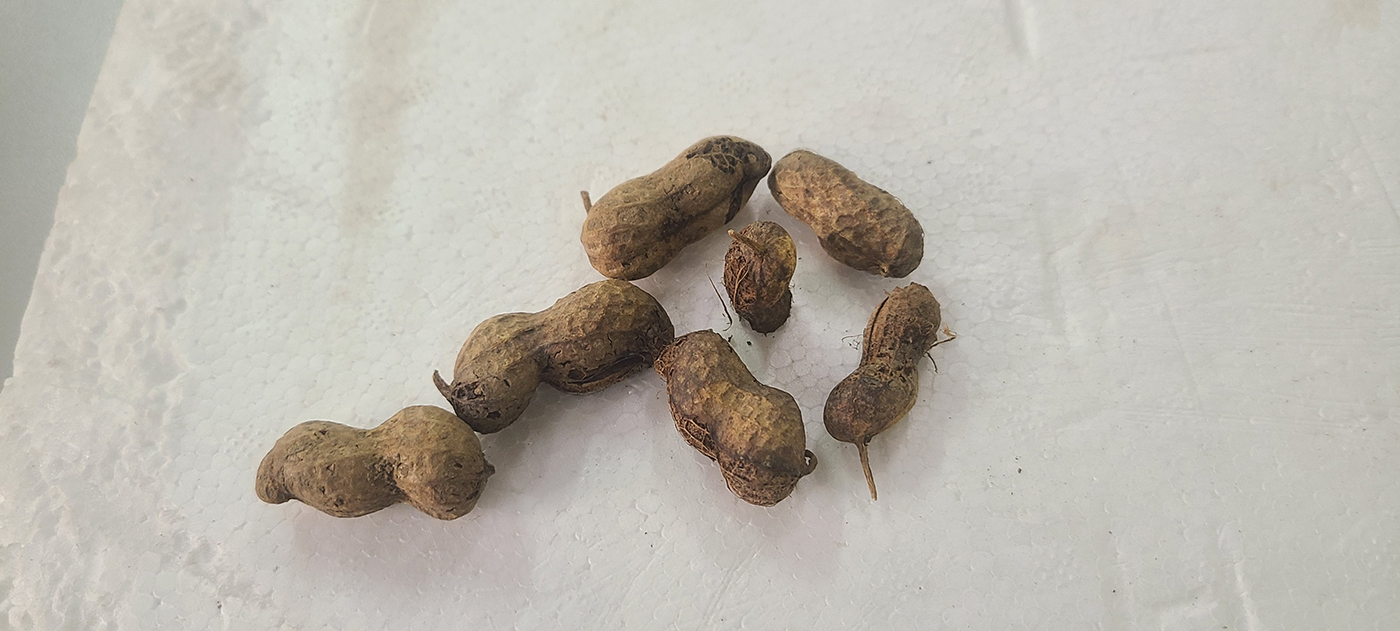l: (448, 274, 674, 432), (577, 137, 771, 281), (255, 404, 488, 522), (657, 331, 807, 507), (767, 150, 924, 276), (821, 284, 941, 444), (724, 223, 798, 331)
